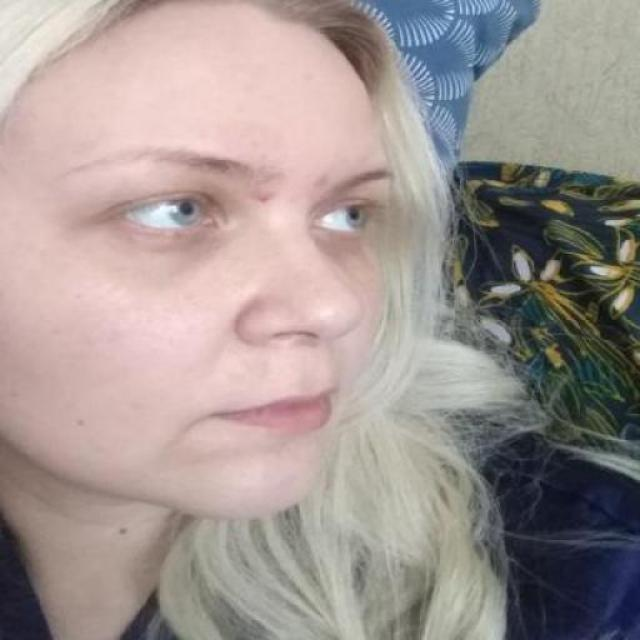Acne: (252, 168, 330, 210)
